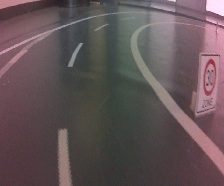zone 30 sign: (194, 50, 221, 118)
